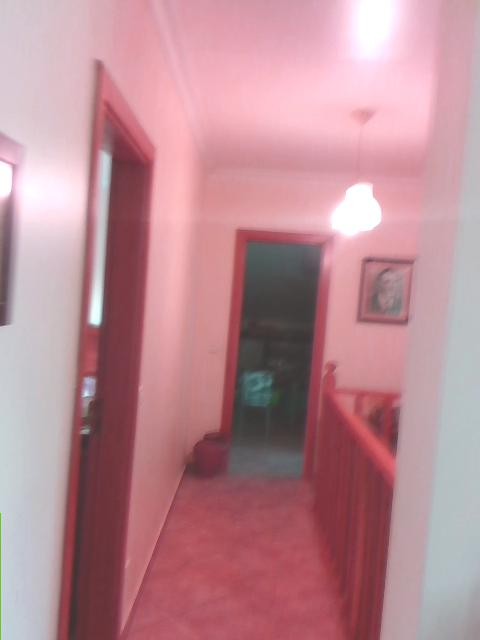open_door: (214, 224, 336, 496)
